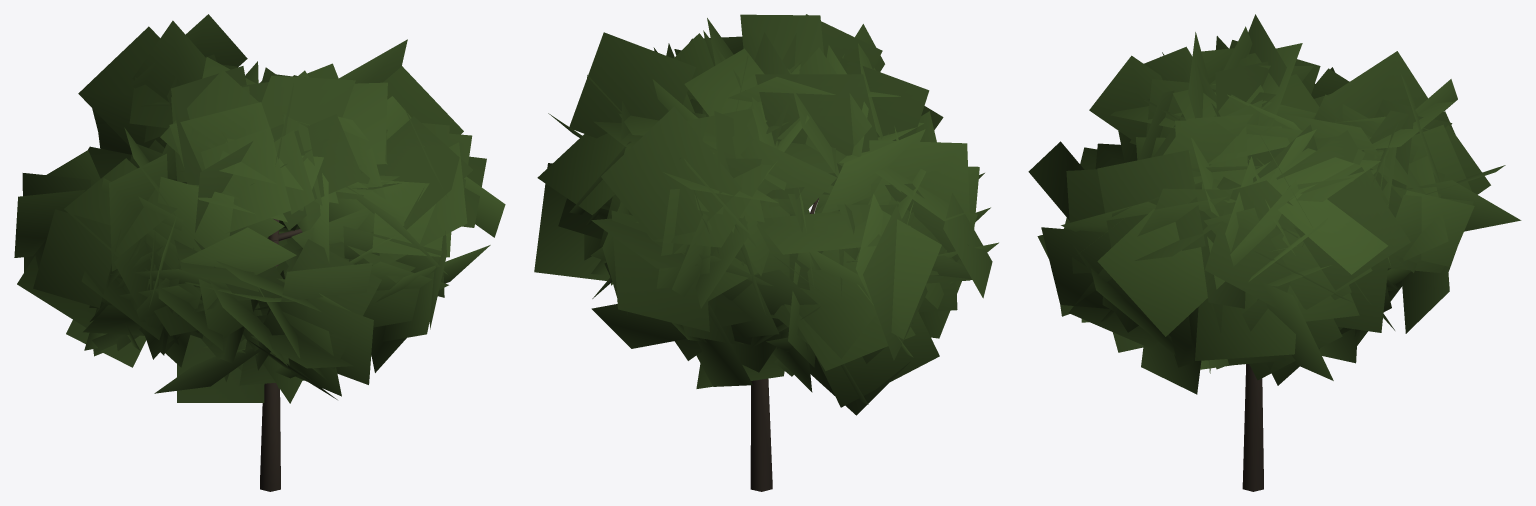
Rendered from SM_Dab_1.glb.
3 views of the same model, side by side, from view 1: azimuth 30°, elevation 25°; view 2: azimuth 150°, elevation 25°; view 3: azimuth 270°, elevation 25° (orthographic). The views are drawn at different scales.
Parts seen in each view (by area): view 1: SM_Dab_1; view 2: SM_Dab_1; view 3: SM_Dab_1.
Boxes of the visible parts, left/top/right/bottom form: SM_Dab_1: left=14, top=14, right=505, bottom=491; SM_Dab_1: left=534, top=14, right=998, bottom=491; SM_Dab_1: left=1028, top=14, right=1521, bottom=491.
Bounding box in the file's own units: 14.76 × 15.08 × 15.25.
